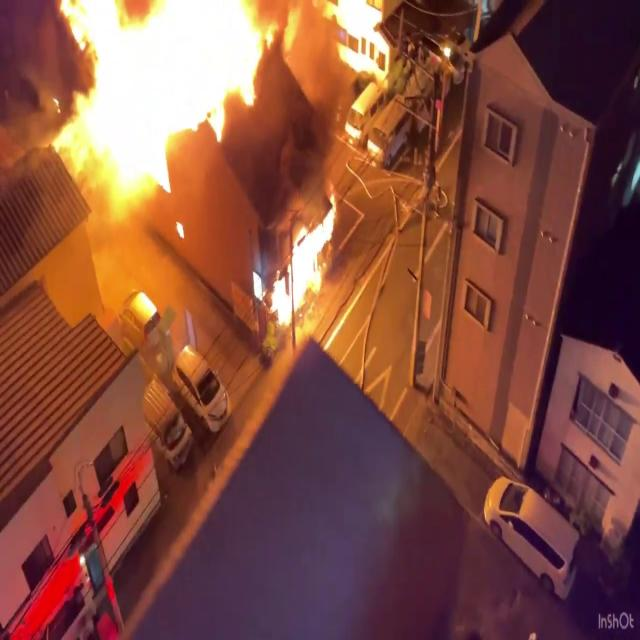Fire: (43, 0, 275, 213), (268, 192, 341, 334)
